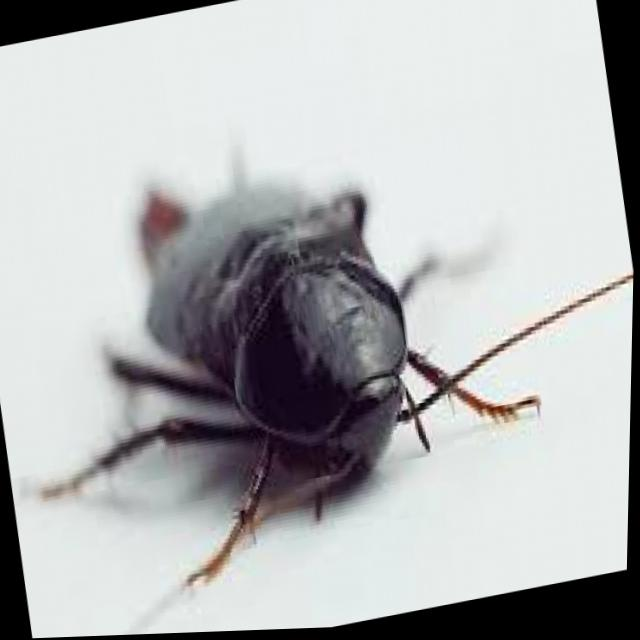Cockroach: (0, 44, 639, 640)
